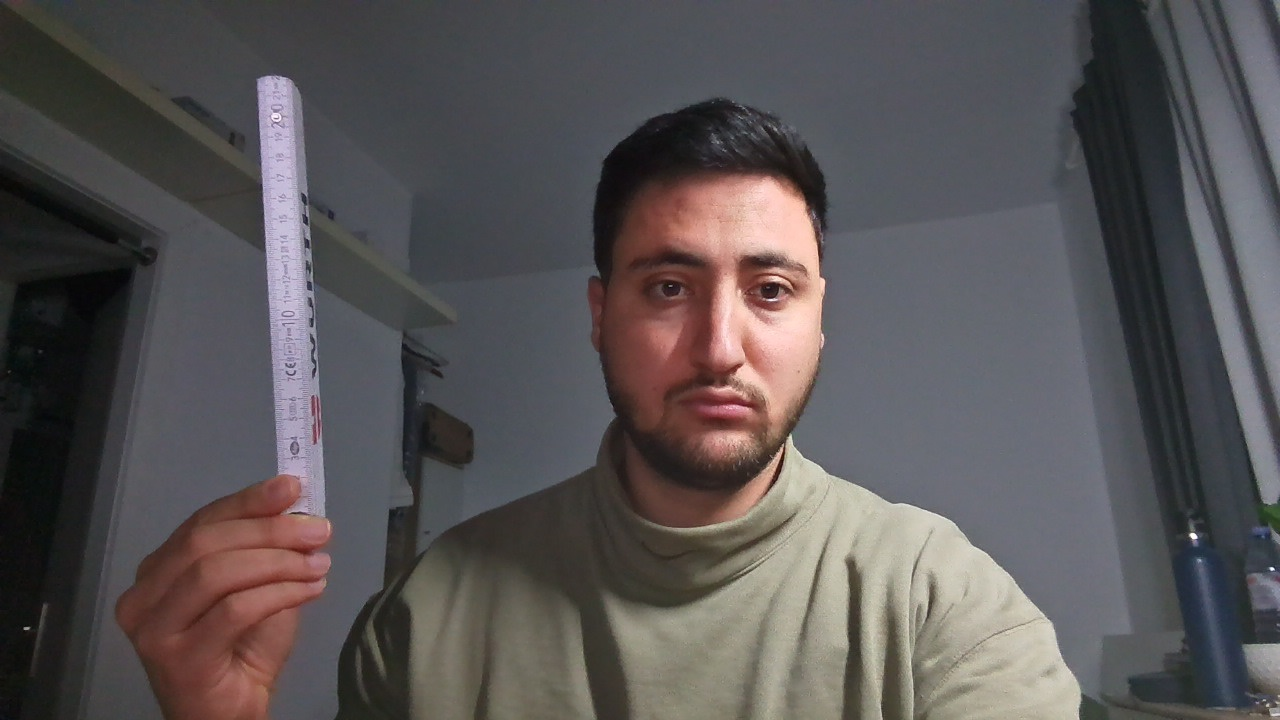Wasserflasche: (1153, 509, 1250, 709)
Zollstock: (232, 70, 389, 559)
me: (551, 87, 837, 499)
